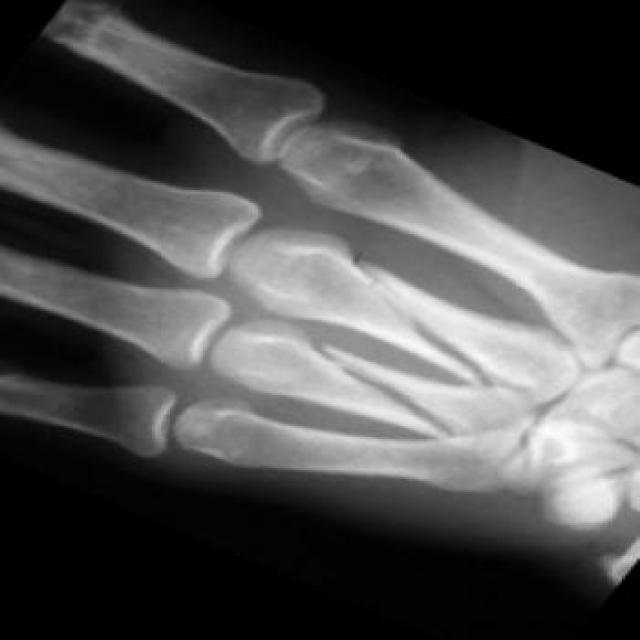Fracture: (331, 265, 517, 367), (292, 349, 462, 440)
